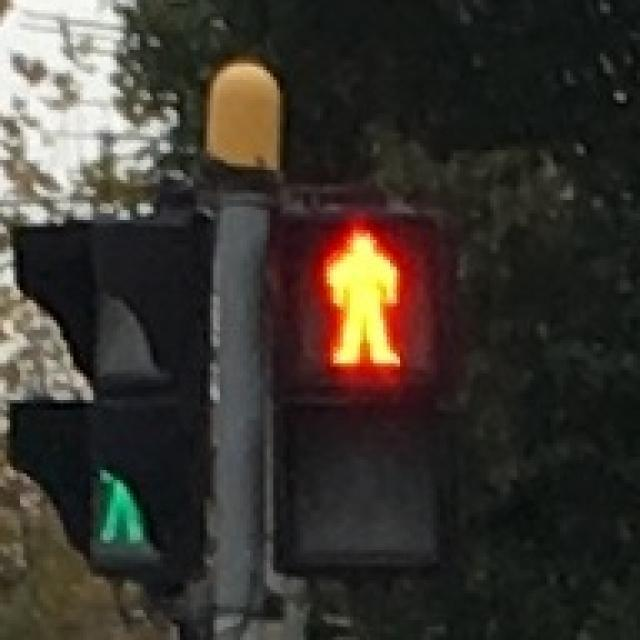red-crossing: (296, 210, 421, 380)
